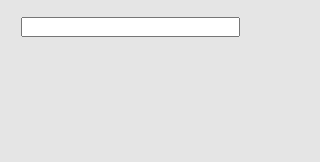
LocationInput › degrades gracefully when the search service fails
The width and height of the screenshot is (320, 162).
Type "midrand" into the dropdown named "Boarding stop" at point(130, 27), box x1=20 y1=17 x2=240 y2=37
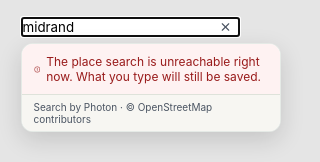
Result: the text "The place search is unreachable right now. What you type will still be saved." is shown at x1=22 y1=44 x2=280 y2=94
